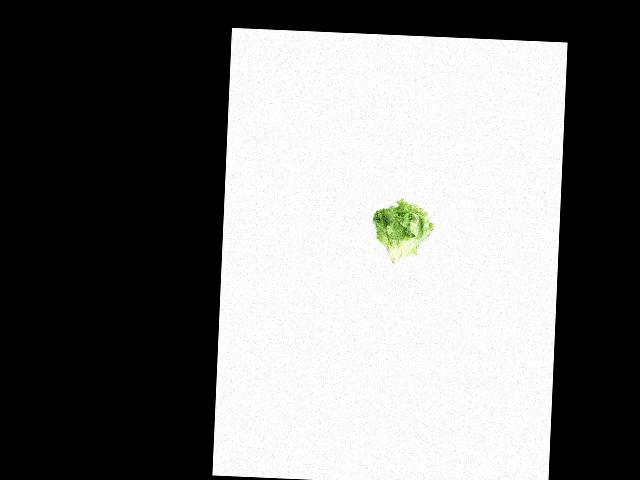lettuce: (369, 199, 436, 266)
